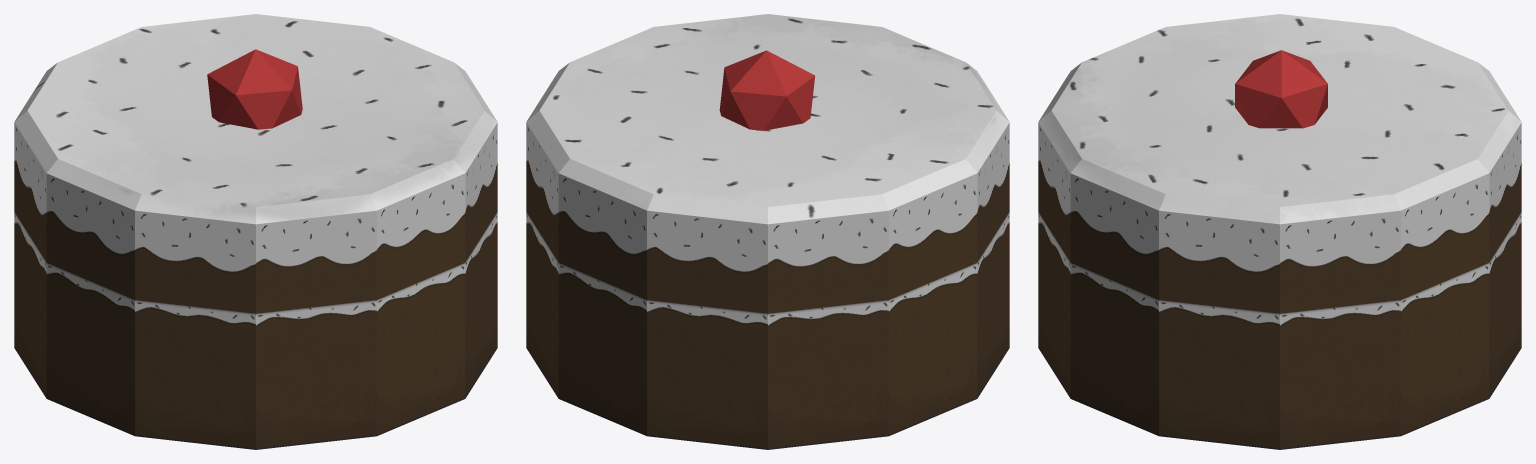
Rendered from cake_2.fbx.
The picture shows the model from 3 angles, left to right: view 1: azimuth 30°, elevation 25°; view 2: azimuth 150°, elevation 25°; view 3: azimuth 270°, elevation 25°; orthographic projection.
Visible parts, largest first — view 1: cake_2; view 2: cake_2; view 3: cake_2.
Part boxes in pixels (left/top/right/bottom): cake_2: left=14, top=14, right=497, bottom=449; cake_2: left=526, top=14, right=1009, bottom=449; cake_2: left=1038, top=14, right=1521, bottom=449.
Bounding box in the file's own units: 24.5 × 16.65 × 24.5.
